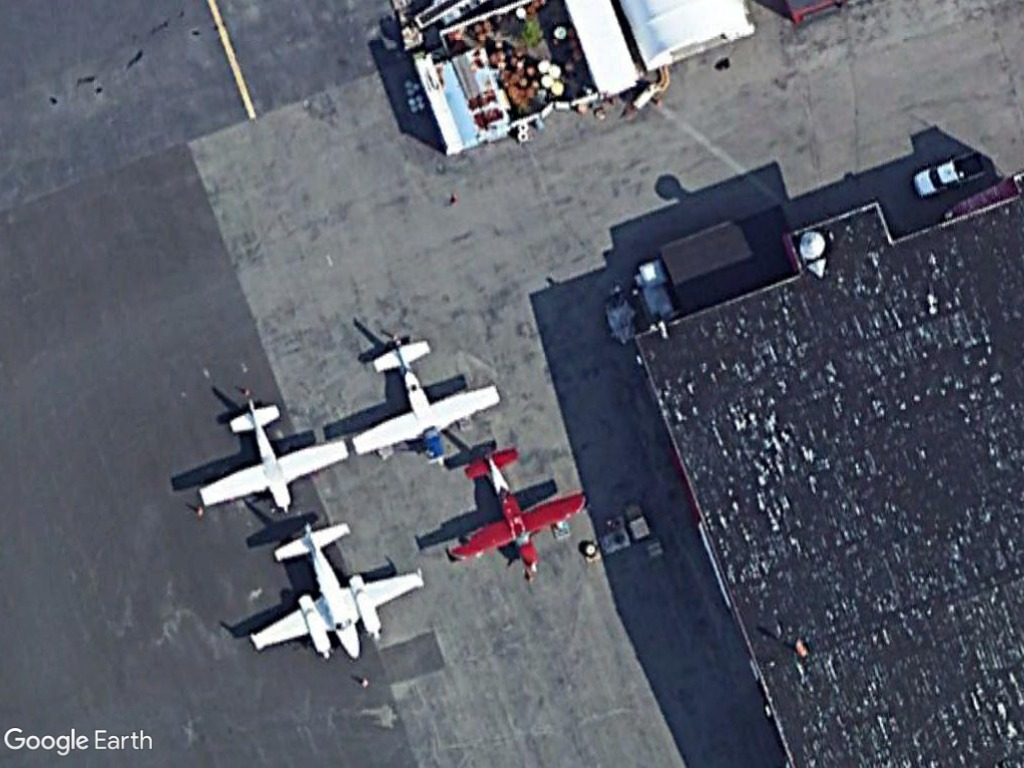propeller: (241, 522, 427, 665)
trainer: (349, 326, 501, 479), (434, 442, 600, 576), (197, 390, 351, 522)
